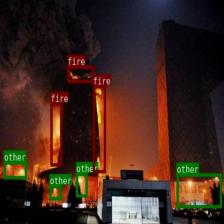fire: (92, 85, 106, 172), (50, 102, 62, 166), (67, 65, 94, 82)
